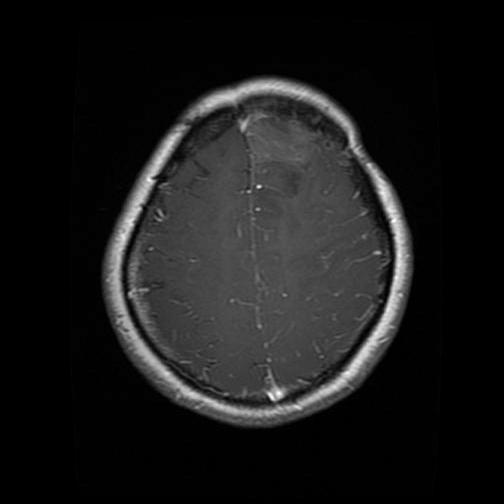Tumour-Glioma: (247, 108, 321, 165)
